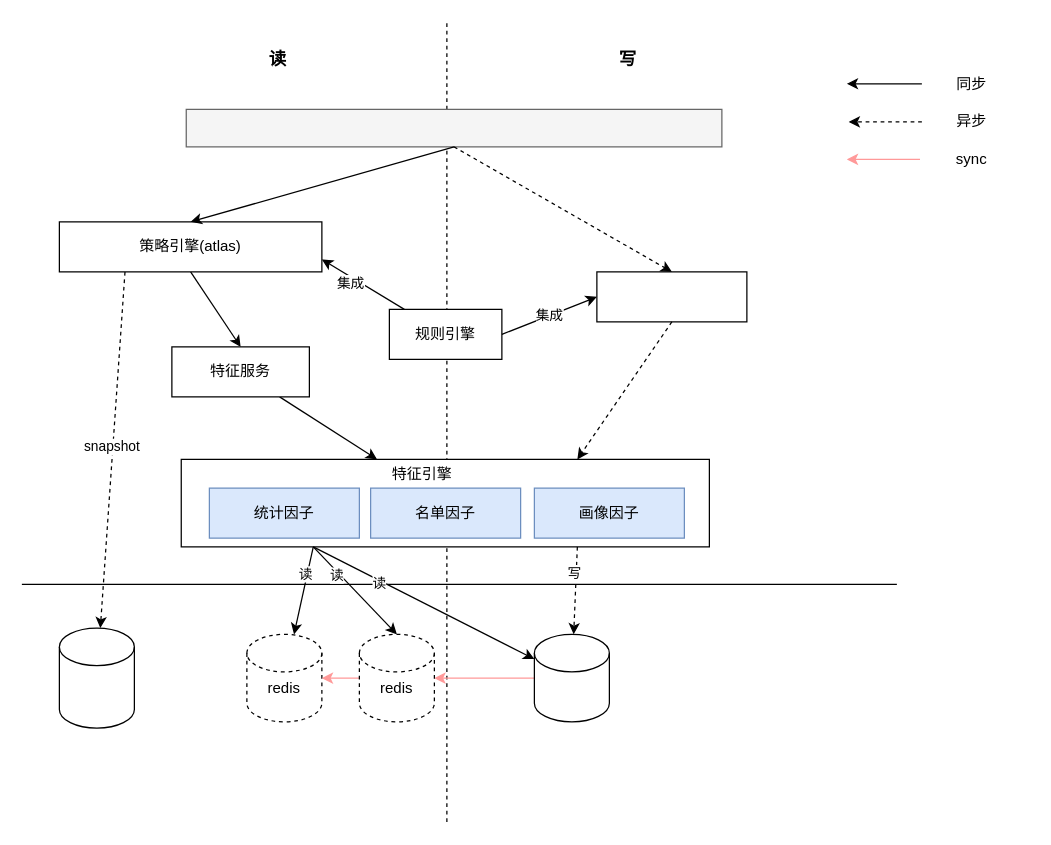
This 1051x845 diagram has some shape labels left out. The box of each missing label's shape, as (x1, y1, x2, y2) in pixels:
Hive: (58, 627, 134, 728)
redis(主): (533, 633, 609, 722)
事件接入: (185, 108, 722, 147)
前置过滤(事件过滤): (596, 271, 747, 322)
